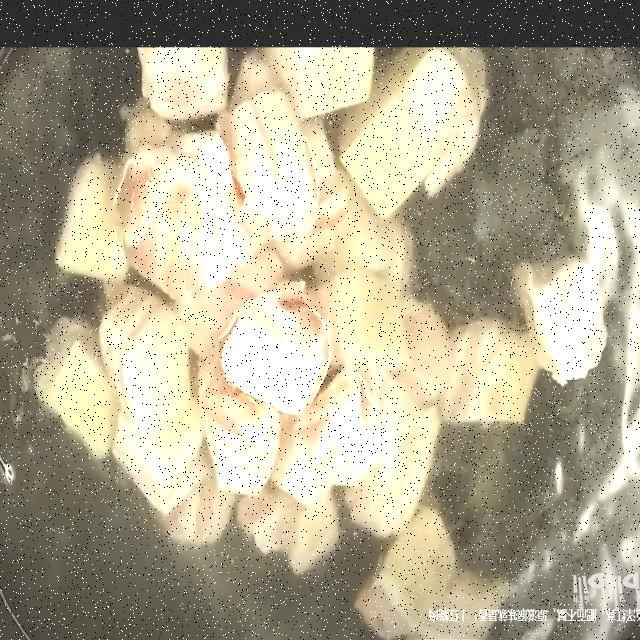pork: (349, 53, 503, 226), (109, 140, 264, 279), (317, 391, 452, 540), (226, 287, 335, 413)
